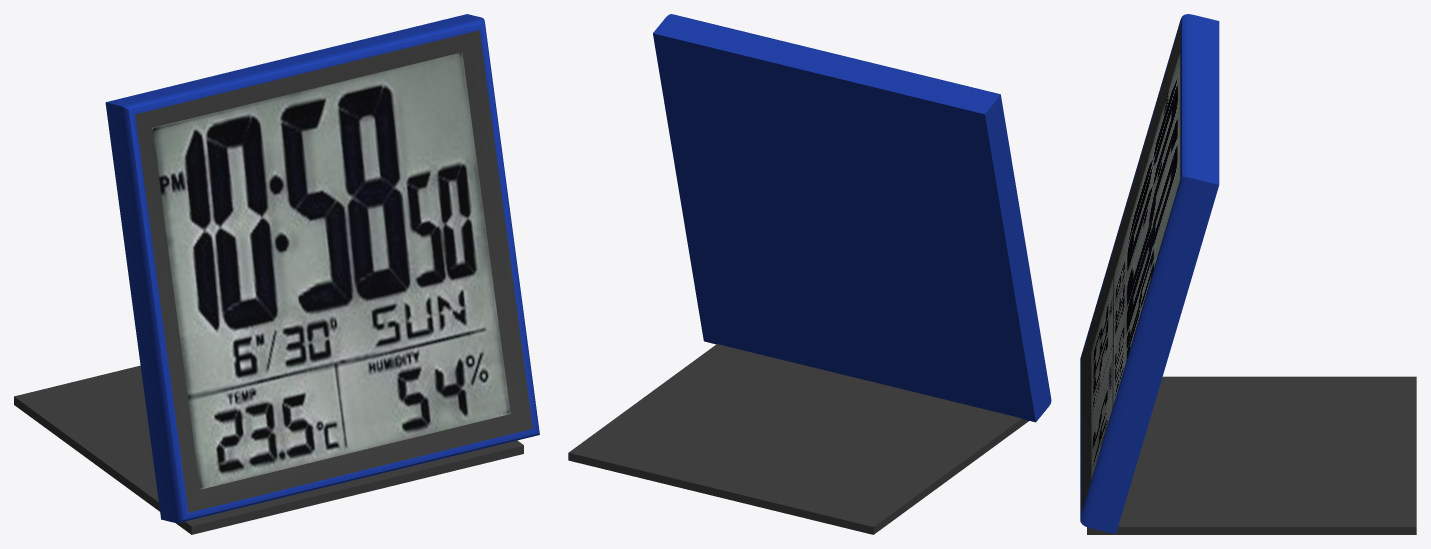
File: Clock.FBX
3 views of the same model, side by side, from view 1: azimuth 30°, elevation 25°; view 2: azimuth 150°, elevation 25°; view 3: azimuth 270°, elevation 25° (orthographic). The views are drawn at different scales.
Parts seen in each view (by area): view 1: Clock; view 2: Clock; view 3: Clock.
Boxes of the visible parts, x1=… form: Clock: x1=14, y1=14, x2=539, y2=534; Clock: x1=568, y1=14, x2=1051, y2=534; Clock: x1=1080, y1=14, x2=1416, y2=534.
Bounding box in the file's own units: 11.72 × 12.13 × 10.17.
Materials: 1 (1 with a texture image).
